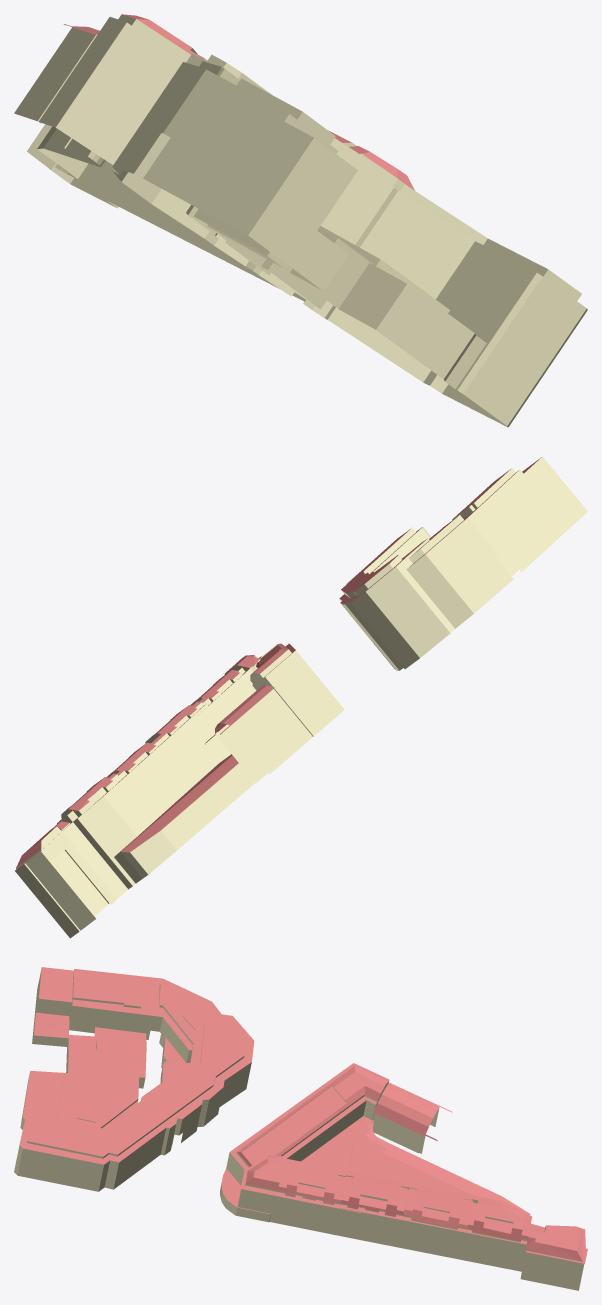
Rendered from tile_003.glb.
3 renders of one model, top to bottom at view 1: azimuth 30°, elevation 25°; view 2: azimuth 150°, elevation 25°; view 3: azimuth 270°, elevation 25°, orthographic. The views are drawn at different scales.
Visible parts, largest first — view 1: Batched_Building_ID_76D6FD3A-27F9-4015-B619-59769F027D56, Batched_Building_ID_1FD80B0C-9E57-46C7-B826-8AEDE4F9009B; view 2: Batched_Building_ID_76D6FD3A-27F9-4015-B619-59769F027D56, Batched_Building_ID_1FD80B0C-9E57-46C7-B826-8AEDE4F9009B; view 3: Batched_Building_ID_1FD80B0C-9E57-46C7-B826-8AEDE4F9009B, Batched_Building_ID_76D6FD3A-27F9-4015-B619-59769F027D56.
Part boxes in pixels (x1,y1,x2,y2): Batched_Building_ID_76D6FD3A-27F9-4015-B619-59769F027D56: (14, 14, 587, 427); Batched_Building_ID_1FD80B0C-9E57-46C7-B826-8AEDE4F9009B: (64, 14, 414, 190); Batched_Building_ID_76D6FD3A-27F9-4015-B619-59769F027D56: (15, 456, 587, 938); Batched_Building_ID_1FD80B0C-9E57-46C7-B826-8AEDE4F9009B: (15, 457, 541, 870); Batched_Building_ID_1FD80B0C-9E57-46C7-B826-8AEDE4F9009B: (19, 967, 587, 1263); Batched_Building_ID_76D6FD3A-27F9-4015-B619-59769F027D56: (14, 968, 584, 1290).
Size of the model in its own units: 111 by 122 by 248.
